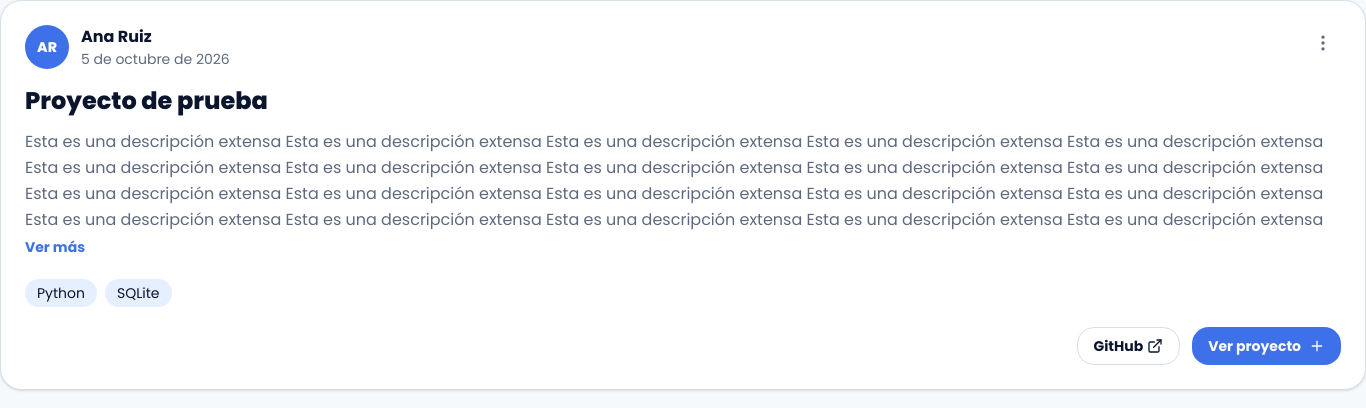
Test: ProjectCommunityFeed › abre acciones de copiar y guardar sin añadir acciones sociales
Click the button named "Más acciones para Proyecto de prueba" at (1323, 43), box [1305, 25, 1341, 61]
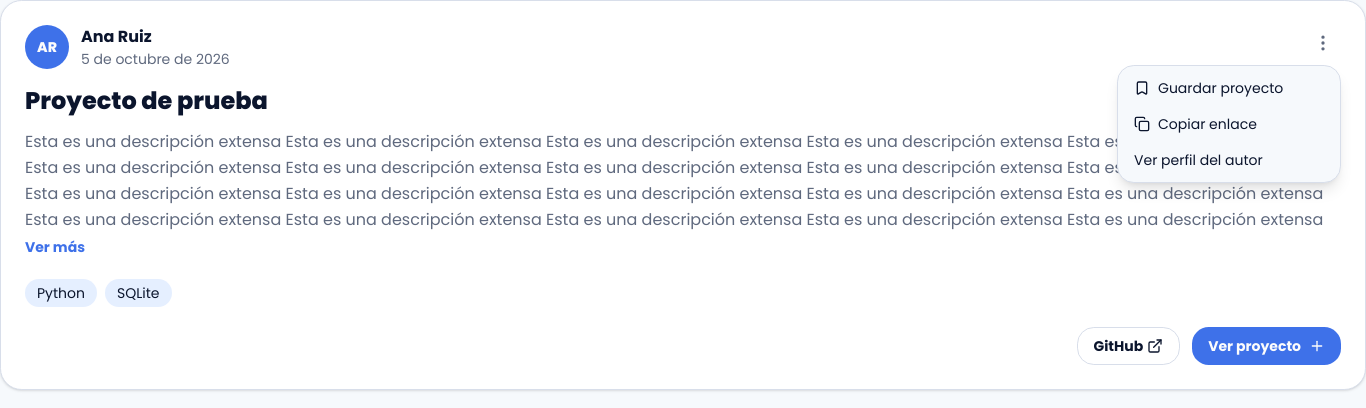
Check: the button "Guardar proyecto" is shown, box [1122, 70, 1336, 106]
Check: the button "Copiar enlace" is shown, box [1122, 106, 1336, 142]
